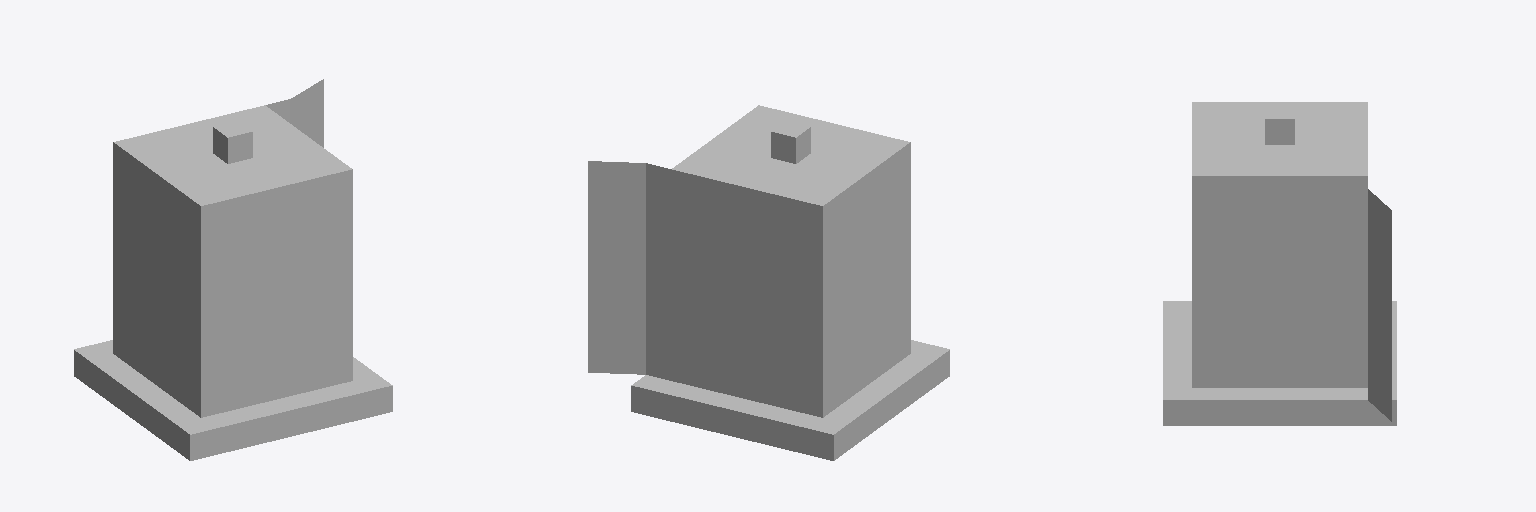
Rendered from sopalin.obj.
3 renders of one model, left to right at view 1: azimuth 30°, elevation 25°; view 2: azimuth 150°, elevation 25°; view 3: azimuth 270°, elevation 25°, orthographic.
Parts seen in each view (by area): view 1: cube.002, cube; view 2: cube.002, cube; view 3: cube.002, cube.
Boxes of the visible parts, x1,y1,x2,y2 form: cube.002: [113, 79, 352, 417]; cube: [74, 121, 392, 460]; cube.002: [588, 105, 910, 417]; cube: [631, 121, 949, 460]; cube.002: [1192, 102, 1391, 421]; cube: [1163, 106, 1396, 425].
Size of the model in its own units: 0.6133 by 0.625 by 0.5.